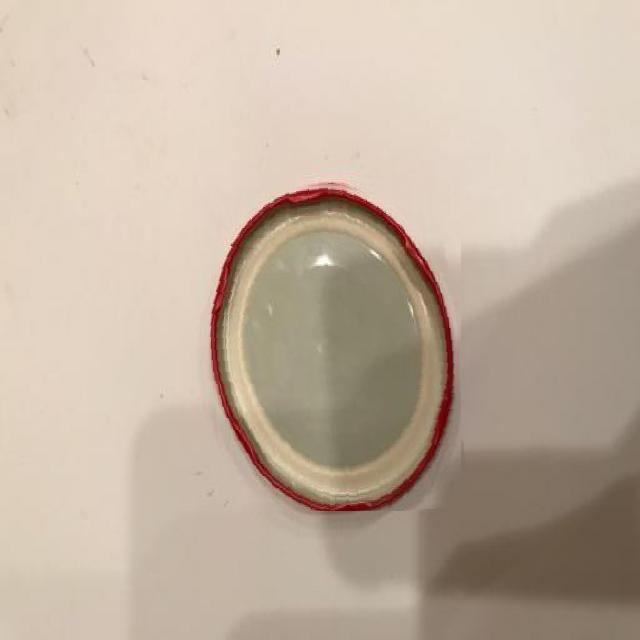recyclable: (202, 178, 461, 512)
